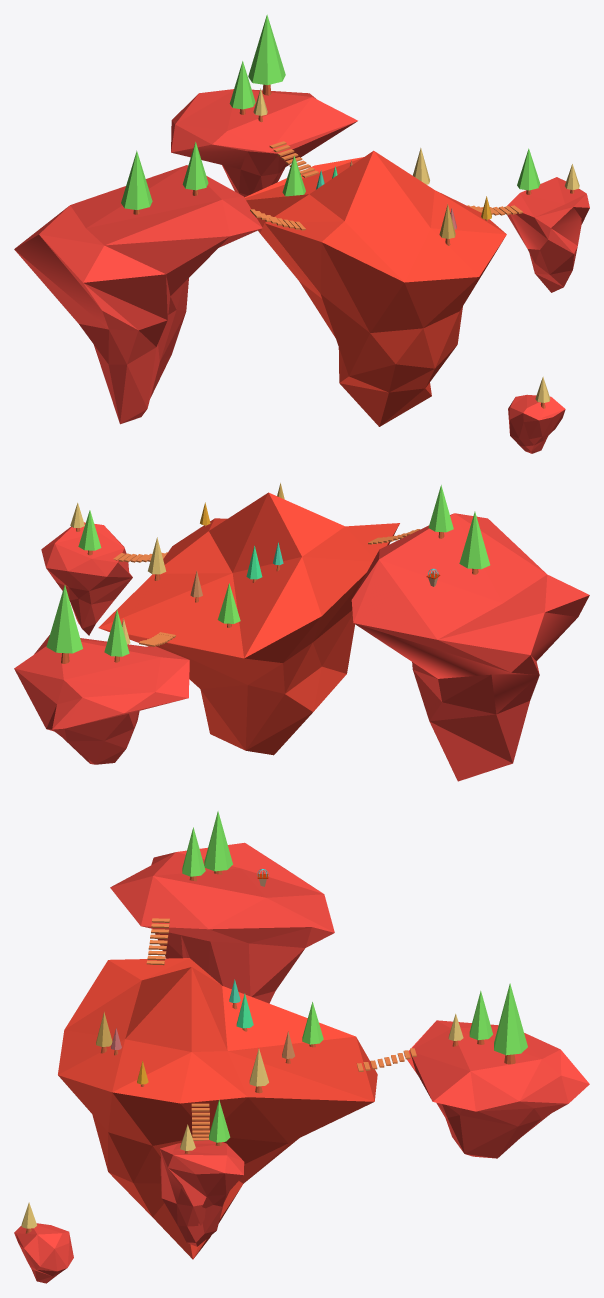
File: sonkirmizi_dusmanli_ada.fbx
The picture shows the model from 3 angles, top to bottom: view 1: azimuth 30°, elevation 25°; view 2: azimuth 150°, elevation 25°; view 3: azimuth 270°, elevation 25°; orthographic projection. The views are drawn at different scales.
Visible parts, largest first — view 1: Icosphere, Icosphere.001, Cone.014, Cone.015, Cone.011, Cone.012, Cube.002, Cone.009; view 2: Icosphere, Icosphere.001, Cone.014, Cone.015, Cone.011, Cone.012, Cone.009, Cone.007; view 3: Icosphere.001, Icosphere, Cone.014, Cone.015, Cube.001, Cone.011, Cone.012, Cube.008.
Part boxes in pixels (bbox=[...]): Icosphere: bbox=[14, 89, 589, 453]; Icosphere.001: bbox=[244, 150, 506, 426]; Cone.014: bbox=[248, 14, 285, 85]; Cone.015: bbox=[121, 150, 152, 209]; Cone.011: bbox=[229, 61, 255, 109]; Cone.012: bbox=[182, 142, 208, 190]; Cube.002: bbox=[269, 141, 318, 177]; Cone.009: bbox=[517, 148, 540, 190]; Icosphere: bbox=[14, 513, 589, 781]; Icosphere.001: bbox=[98, 492, 399, 755]; Cone.014: bbox=[46, 584, 82, 653]; Cone.015: bbox=[459, 511, 490, 569]; Cone.011: bbox=[104, 609, 129, 656]; Cone.012: bbox=[428, 485, 453, 532]; Cone.009: bbox=[78, 510, 101, 550]; Cone.007: bbox=[217, 583, 240, 623]; Icosphere.001: bbox=[58, 958, 377, 1259]; Icosphere: bbox=[14, 842, 589, 1283]; Cone.014: bbox=[494, 983, 527, 1055]; Cone.015: bbox=[204, 811, 232, 871]; Cube.001: bbox=[146, 918, 169, 965]; Cone.011: bbox=[469, 990, 492, 1040]; Cone.012: bbox=[182, 827, 205, 876]; Cube.008: bbox=[191, 1103, 209, 1140].
Bounding box in the file's own units: 9793 × 5737 × 9116.
